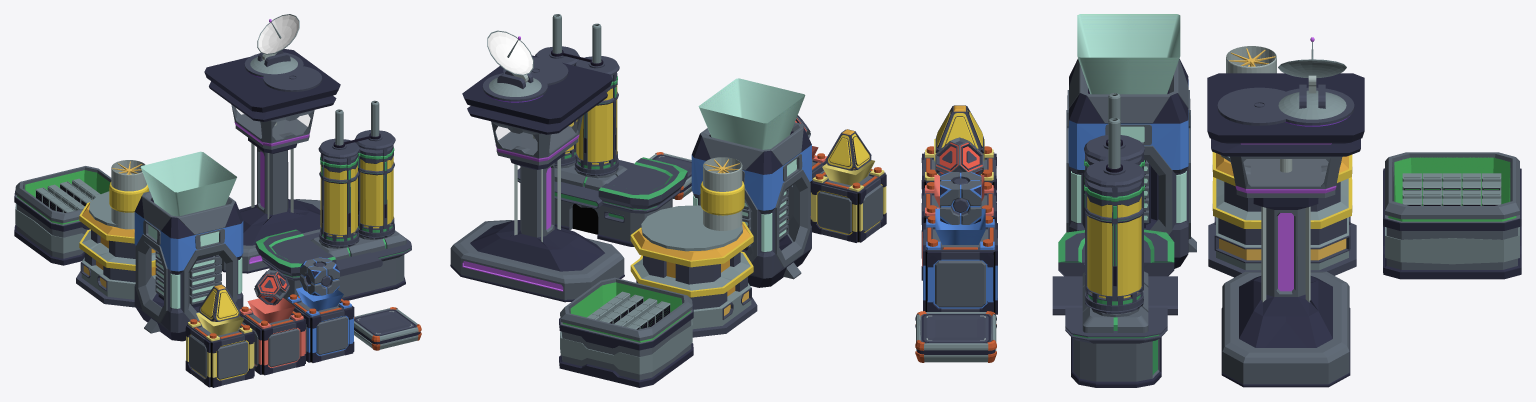
File: Assets.fbx
3 renders of one model, left to right at view 1: azimuth 30°, elevation 25°; view 2: azimuth 150°, elevation 25°; view 3: azimuth 270°, elevation 25°, orthographic. The views are drawn at different scales.
Visible parts, largest first — view 1: Generator, Refinery.001, ControlHub_Base, Asembler, DataCenter_Base, Yellow_Box, Red_Box, Blue_Box, Plate, ControlHub_Radar, Asembler_Pipe, Generator_Inside (+7 smaller); view 2: ControlHub_Base, Generator, Refinery.001, Asembler, DataCenter_Base, Yellow_Box, Asembler_Pipe, ControlHub_Radar, ControlHub_Wheel, Yellow_Orb, Plate, Generator_Inside (+7 smaller); view 3: ControlHub_Base, Refinery.001, Generator, DataCenter_Base, Asembler, Blue_Box, Plate, ControlHub_Radar, ControlHub_Wheel, Blue_Orb, Red_Orb, Yellow_Orb (+9 smaller).
Boxes of the visible parts, <box> form: Generator: <box>134,151,243,341</box>; Refinery.001: <box>255,130,411,300</box>; ControlHub_Base: <box>204,49,340,273</box>; Asembler: <box>76,189,156,307</box>; DataCenter_Base: <box>14,166,111,265</box>; Yellow_Box: <box>185,312,254,387</box>; Red_Box: <box>239,298,305,375</box>; Blue_Box: <box>286,287,354,362</box>; Plate: <box>354,307,421,350</box>; ControlHub_Radar: <box>249,14,299,77</box>; Asembler_Pipe: <box>109,160,148,229</box>; Generator_Inside: <box>155,251,221,307</box>; ControlHub_Base: <box>450,55,624,302</box>; Generator: <box>691,78,811,287</box>; Refinery.001: <box>517,46,687,246</box>; Asembler: <box>630,205,757,337</box>; DataCenter_Base: <box>559,277,693,387</box>; Yellow_Box: <box>810,160,886,242</box>; Asembler_Pipe: <box>700,157,744,230</box>; ControlHub_Radar: <box>486,30,542,102</box>; ControlHub_Wheel: <box>482,57,568,101</box>; Yellow_Orb: <box>825,129,871,170</box>; Plate: <box>649,152,691,199</box>; Generator_Inside: <box>742,188,788,250</box>; ControlHub_Base: <box>1207,73,1364,387</box>; Refinery.001: <box>1052,135,1177,387</box>; Generator: <box>1066,14,1196,268</box>; DataCenter_Base: <box>1383,152,1521,279</box>; Asembler: <box>1208,152,1356,277</box>; Blue_Box: <box>923,208,997,314</box>; Plate: <box>915,311,996,362</box>; ControlHub_Radar: <box>1278,37,1349,126</box>; ControlHub_Wheel: <box>1217,87,1354,125</box>; Blue_Orb: <box>940,172,981,224</box>; Red_Orb: <box>935,137,983,175</box>; Yellow_Orb: <box>935,105,983,153</box>.
Size of the model in its own units: 1220 by 1003 by 1740.
